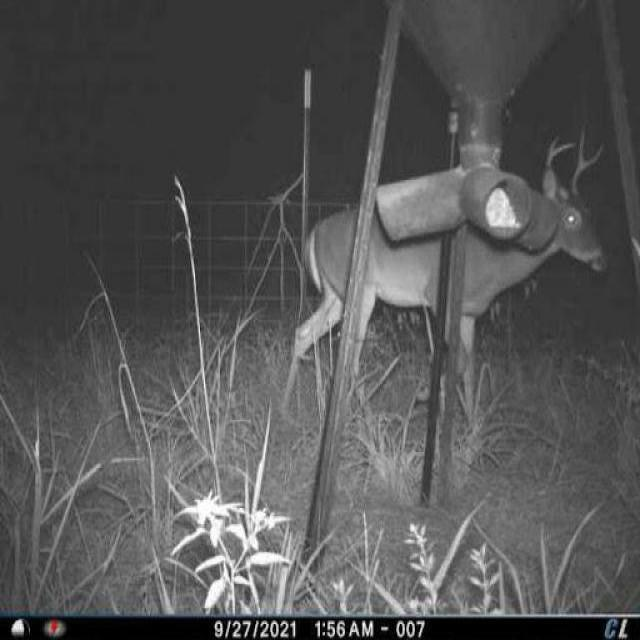deer: (284, 123, 624, 441)
